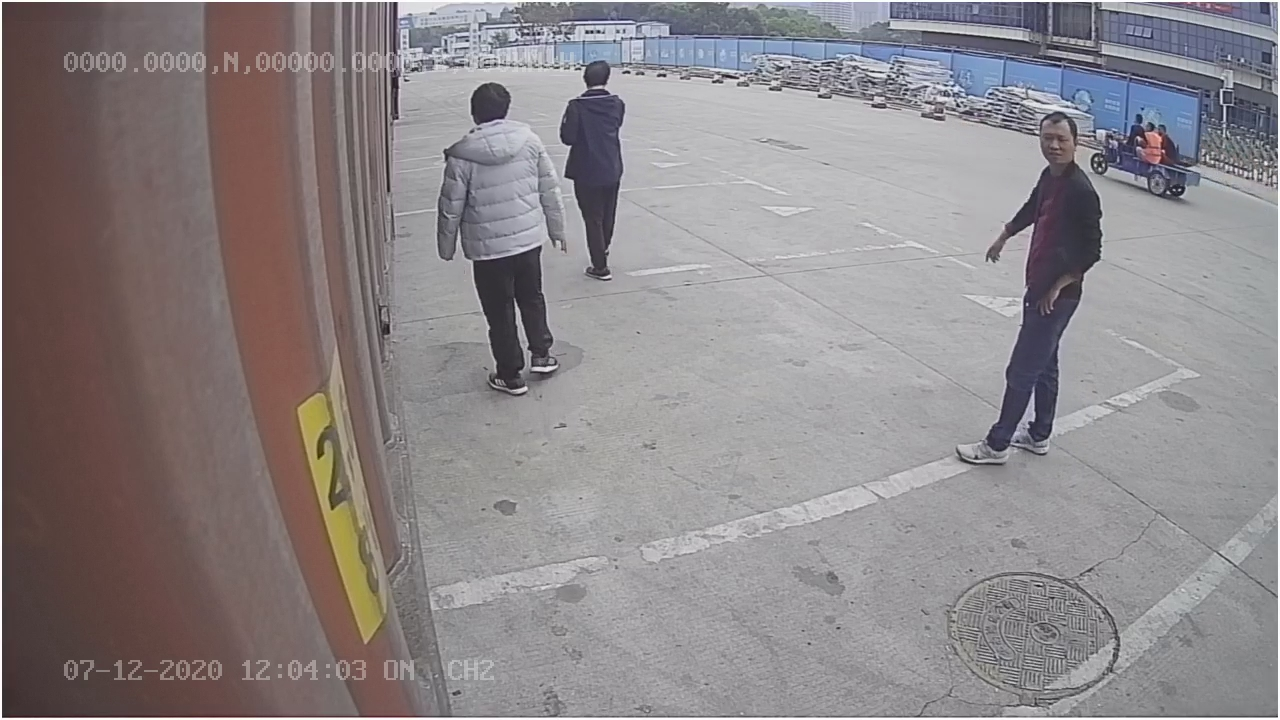person: (954, 106, 1108, 466), (432, 82, 574, 393)
